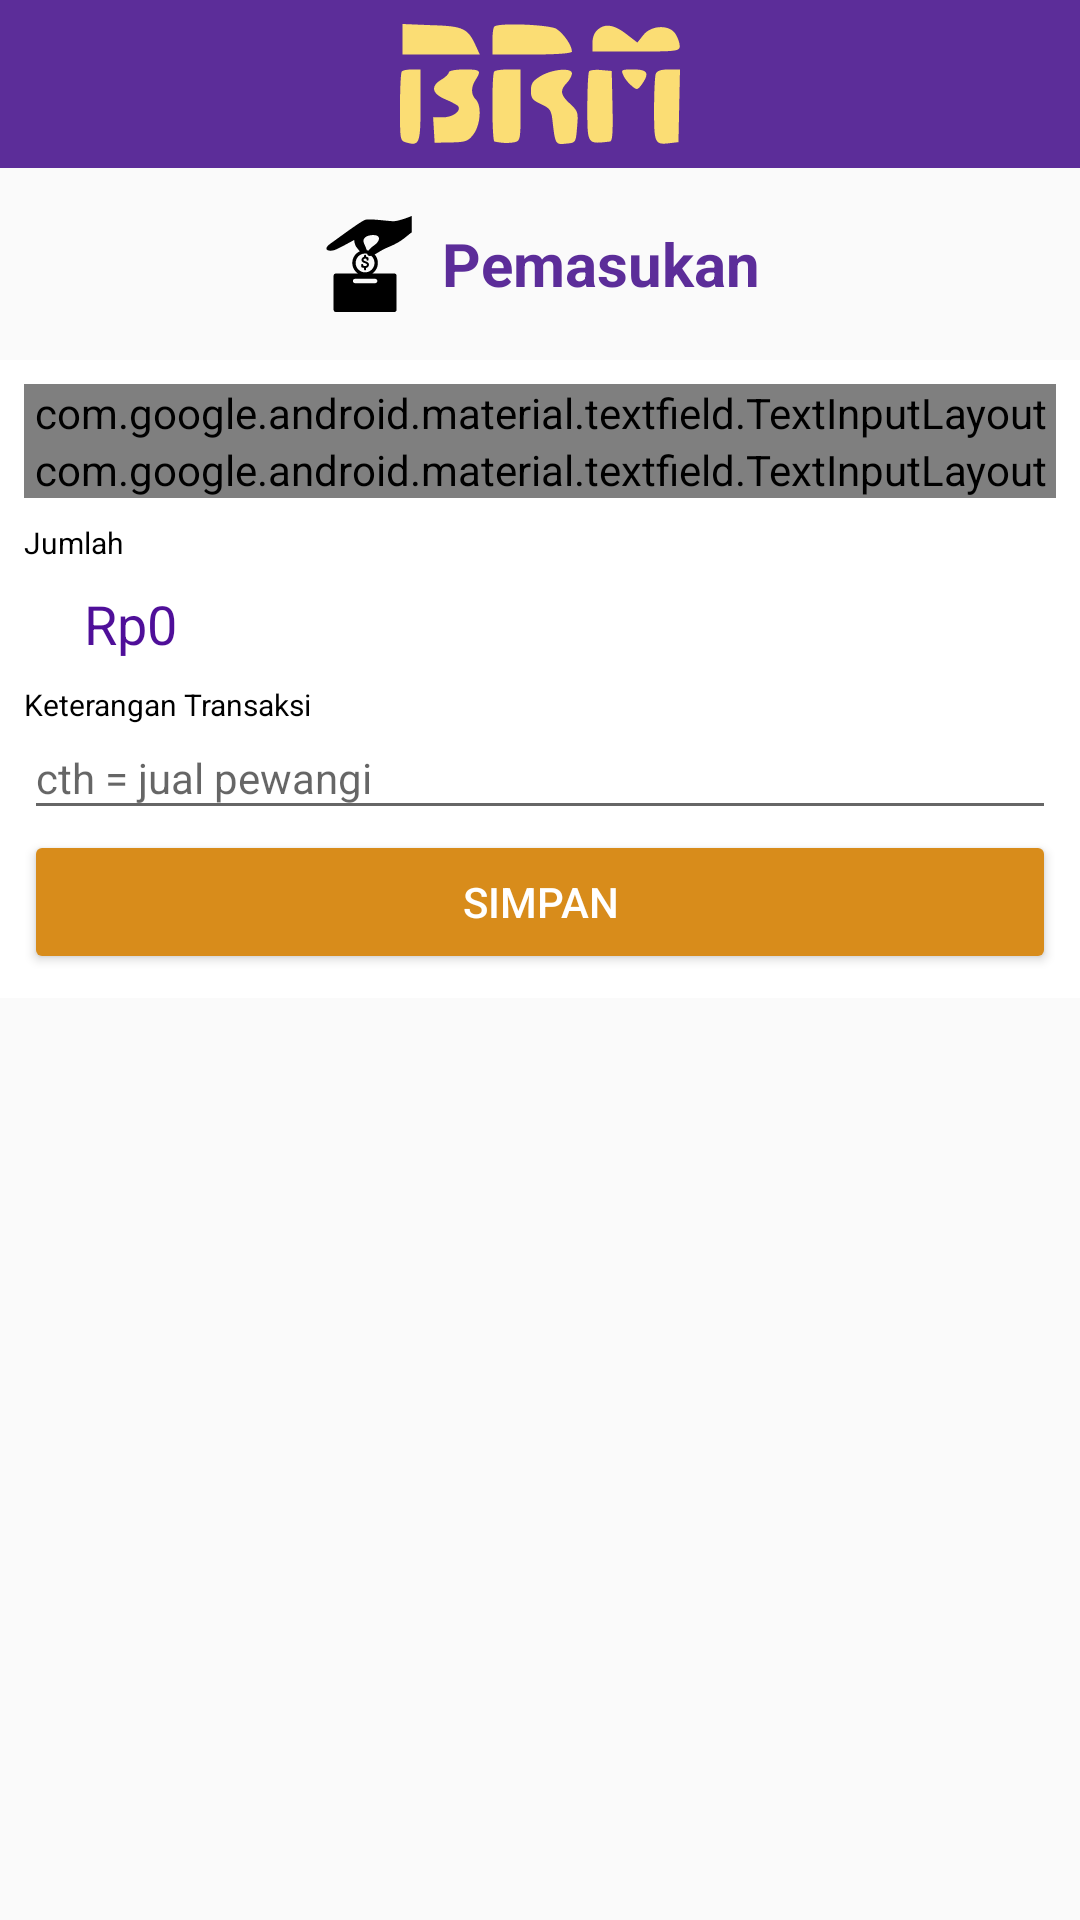

Icon bounding boxes for this 1080 × 1920 phone screenshot, format (x1, y1, x2, y2):
make donation: (326, 216, 412, 312)
